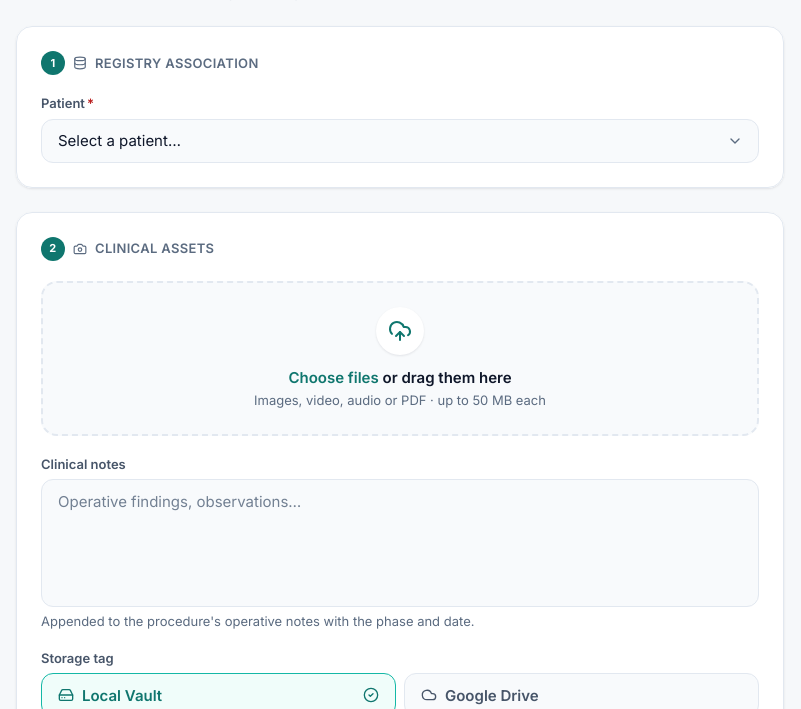
Test: UploadMedia › switches to "new procedure" for patients without surgeries and validates input
Step 1. Select "Asha (P1)" in the dropdown labelled "Patient*" → (400, 141), box 41,119 -> 759,163
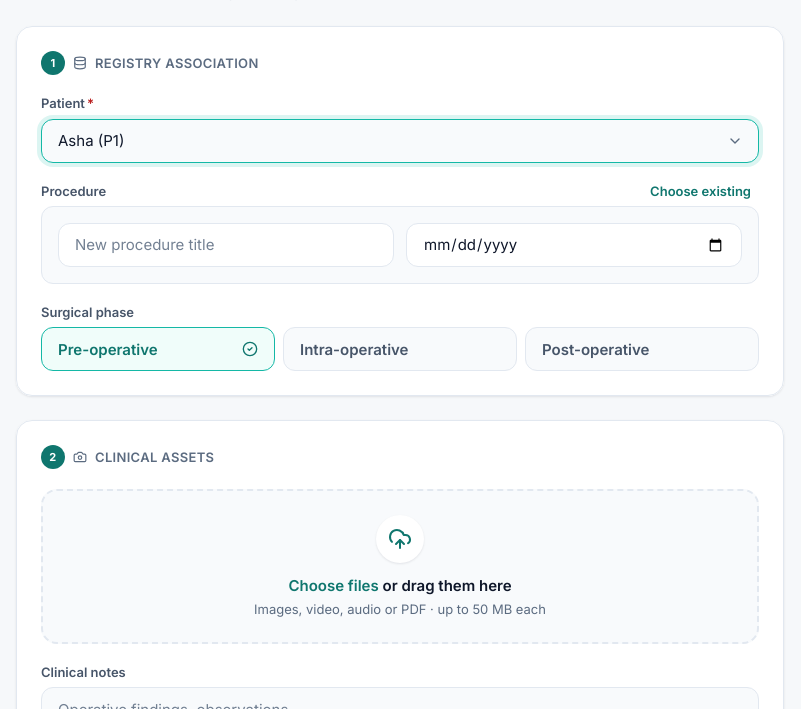
Check: the field labelled "New procedure title" is shown
Step 2. Type "Primary repair" into the field labelled "New procedure title" → (226, 245), box 58,223 -> 394,267
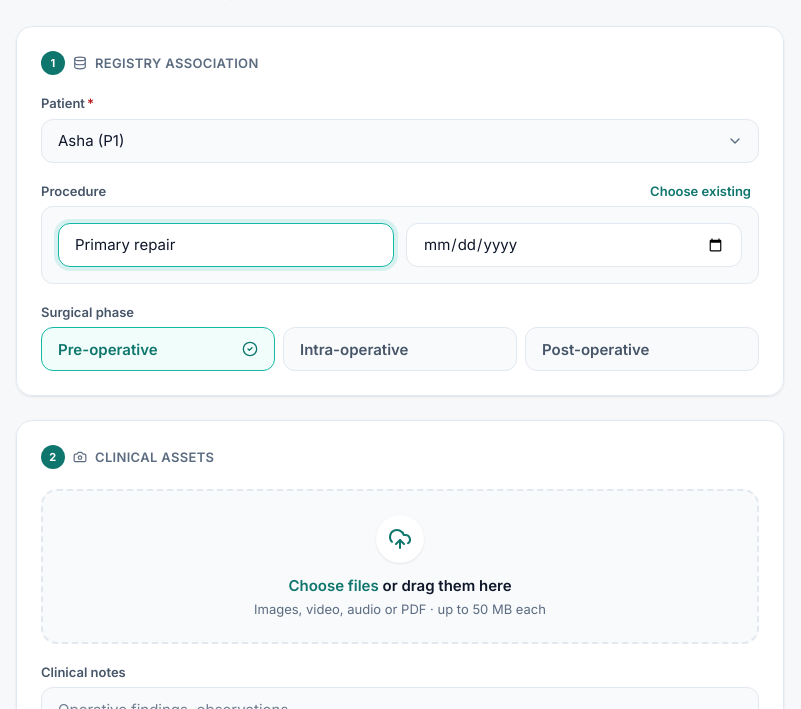
Step 3. Type "2026-11-01" into the date field named "procedure date" → (574, 245), box 406,223 -> 742,267
(page scrolled)
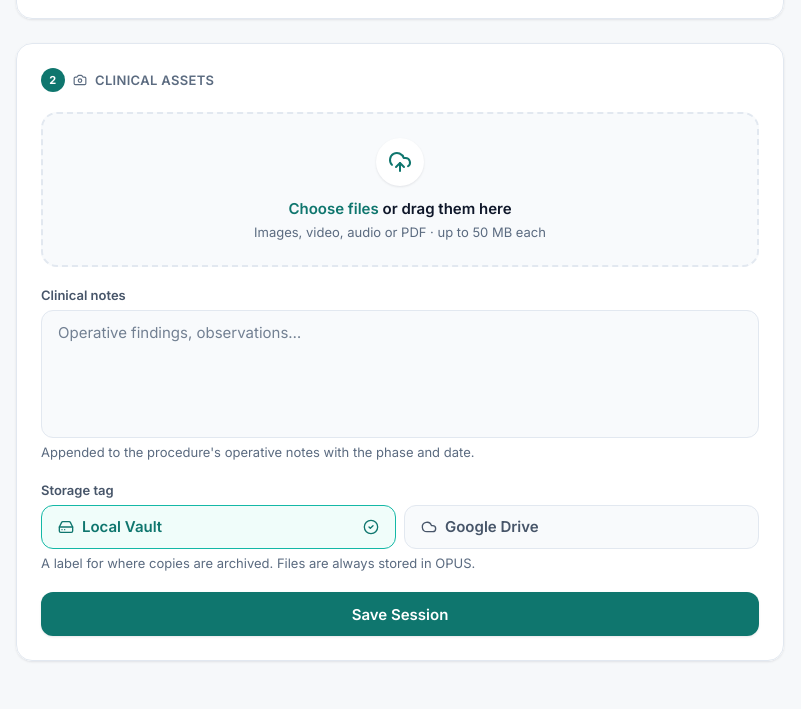
Step 4. Click the button "Save Session" → (400, 614), box 41,592 -> 759,636
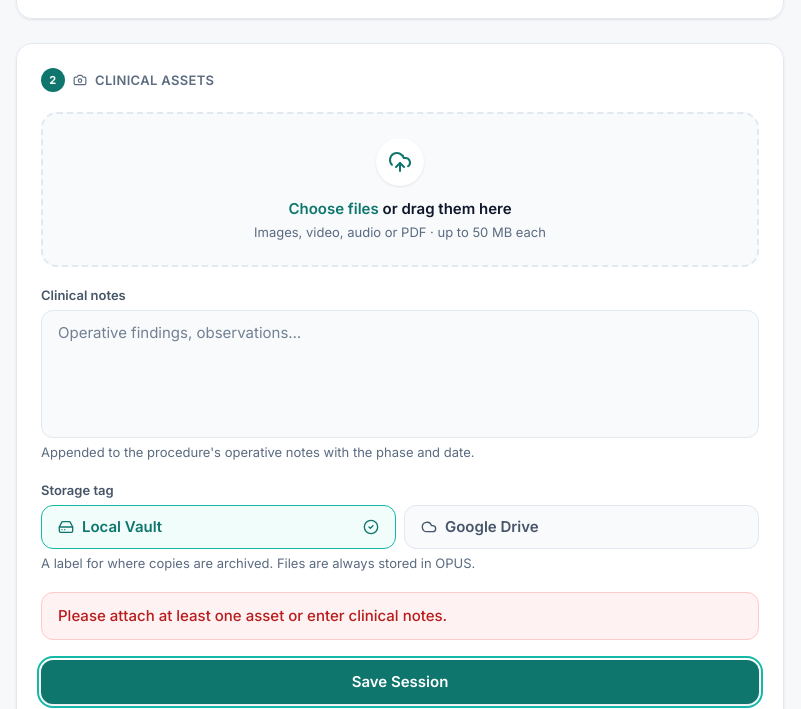
Check: the message shows "attach at least one asset or enter clinical notes", box 58,606 -> 447,626
Step 5. Type "Pre-op marking" into the text box labelled "Clinical notes" → (400, 374), box 41,310 -> 759,438
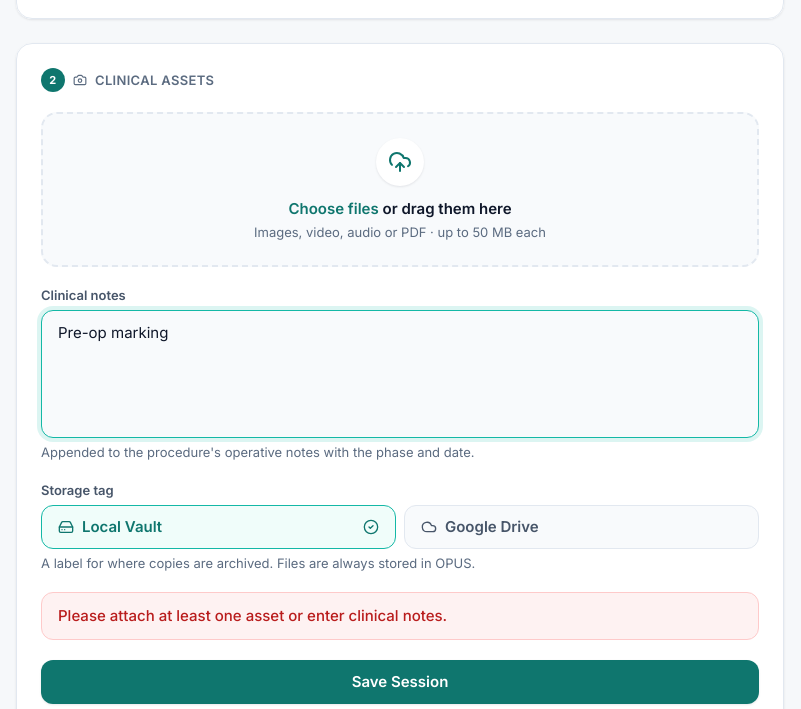
Step 6. Click the button "Save Session" → (400, 682), box 41,660 -> 759,704
(page scrolled)
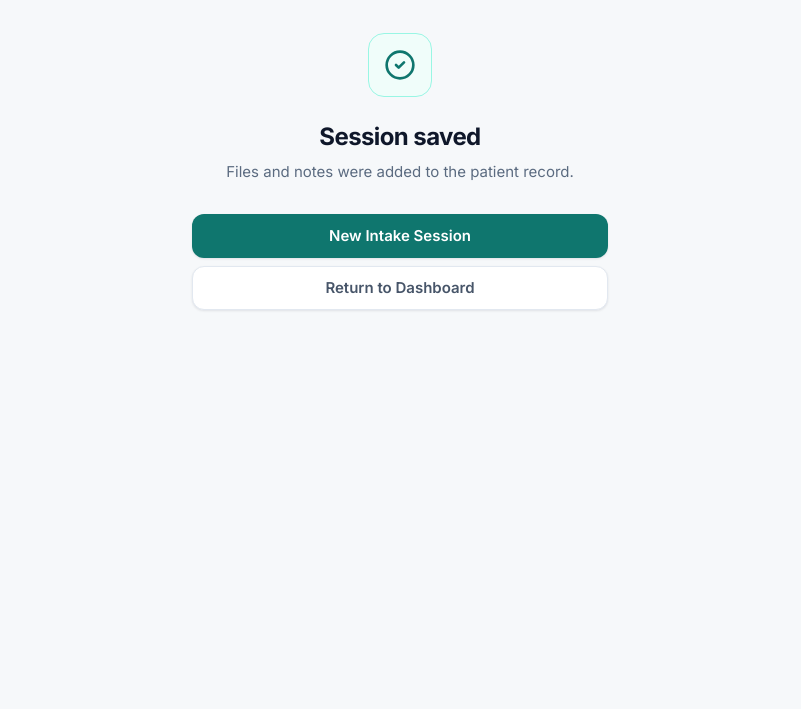
Check: the heading "Session saved" is shown, box 319,122 -> 481,151
